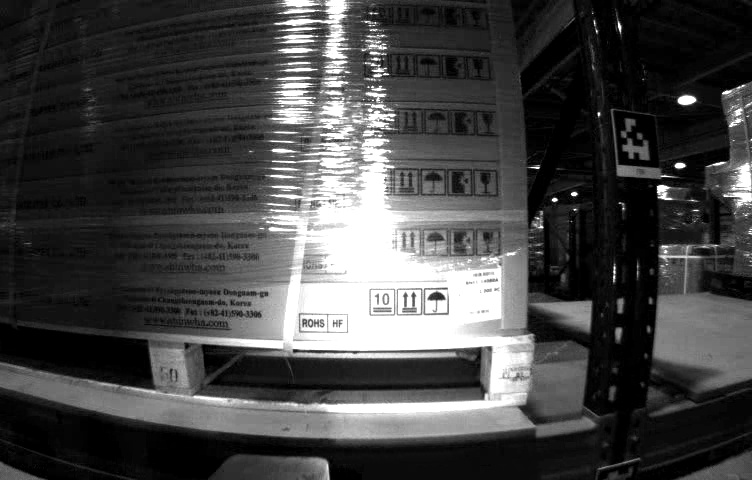True Barcode: (452, 269, 509, 322)
